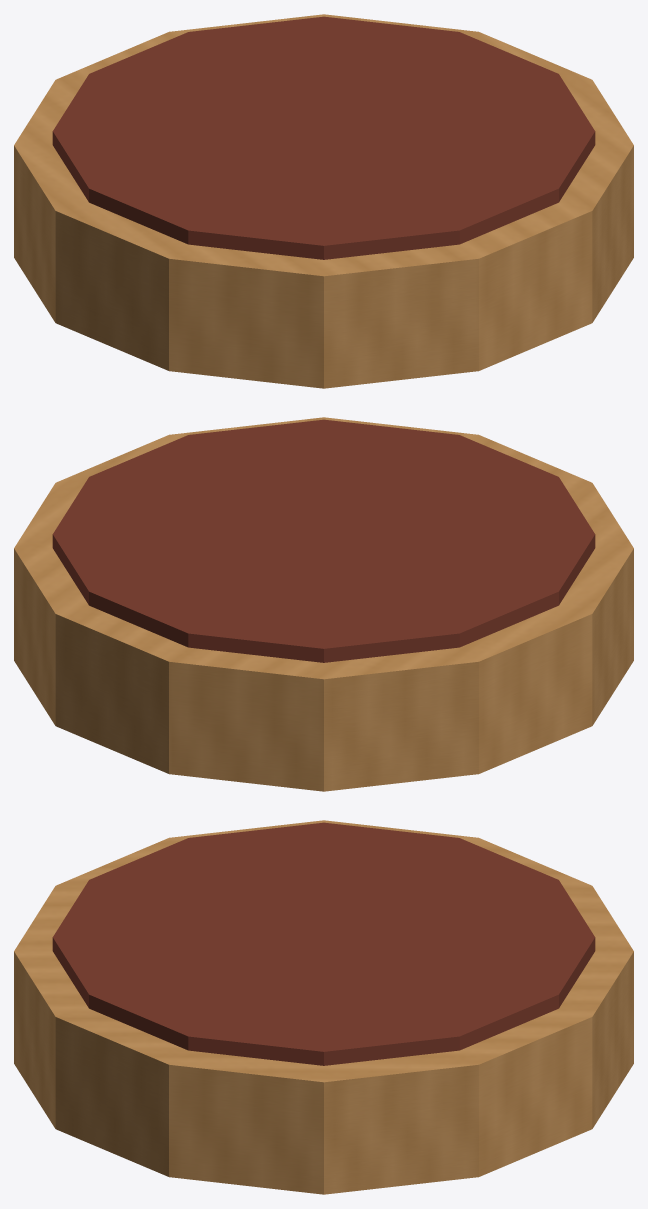
Rendered from marker.glb.
The picture shows the model from 3 angles, top to bottom: view 1: azimuth 30°, elevation 25°; view 2: azimuth 150°, elevation 25°; view 3: azimuth 270°, elevation 25°; orthographic projection.
Parts seen in each view (by area): view 1: painted-face, wood-edge; view 2: painted-face, wood-edge; view 3: painted-face, wood-edge.
Part boxes in pixels (bbox=[...]): painted-face: bbox=[52, 16, 595, 259]; wood-edge: bbox=[14, 14, 633, 388]; painted-face: bbox=[52, 419, 595, 662]; wood-edge: bbox=[14, 417, 633, 791]; painted-face: bbox=[52, 822, 595, 1065]; wood-edge: bbox=[14, 820, 633, 1194].
Size of the model in its own units: 0.7111 by 0.16 by 0.7111.
Materials: 2 (1 with a texture image).
